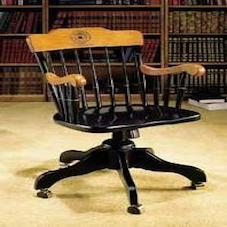chair: (9, 5, 220, 219)
